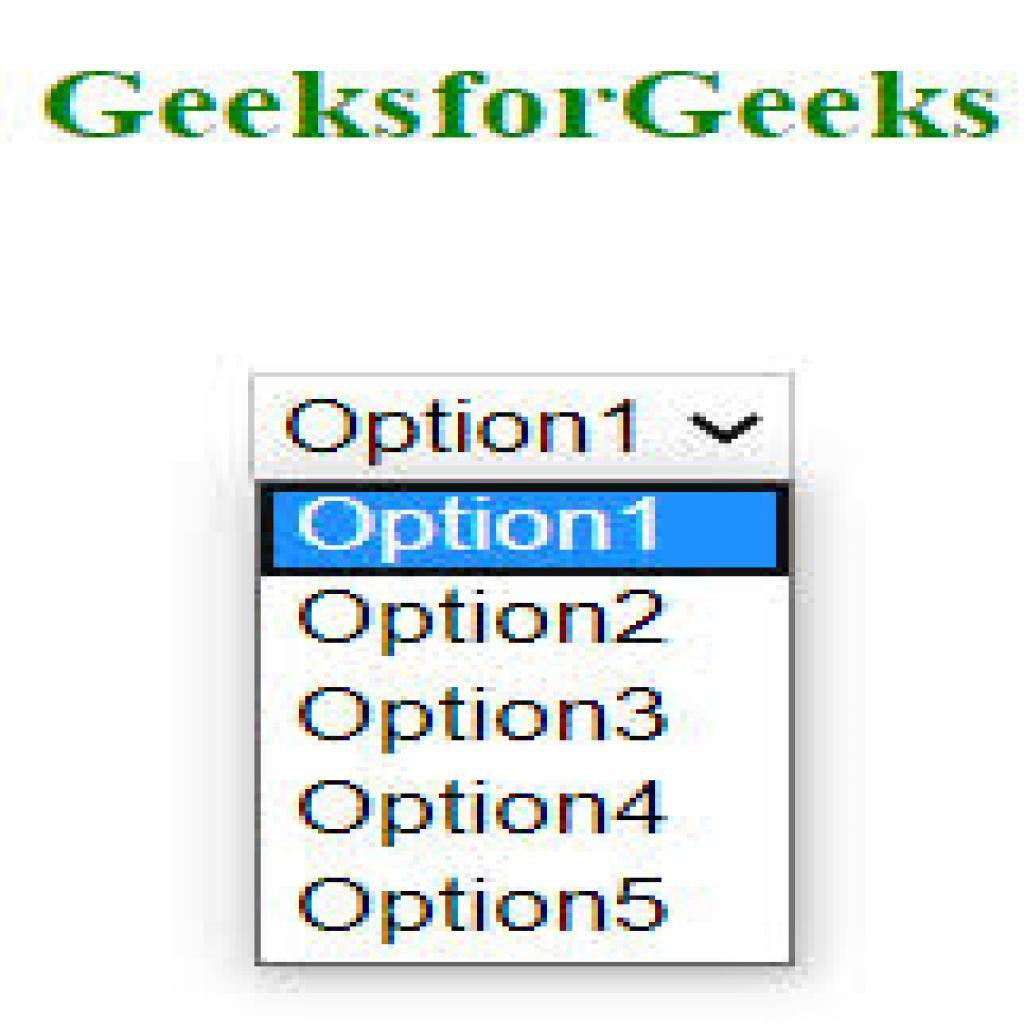dropdown: (251, 367, 788, 484)
